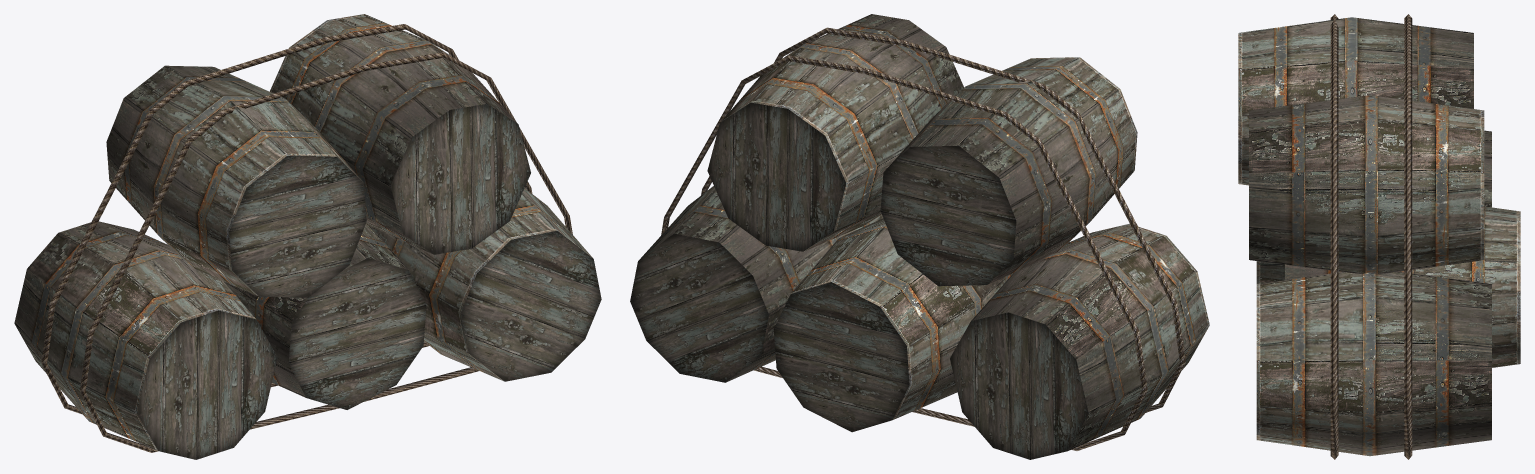
The model's file is Barrel3_LOD1.fbx.
The picture shows the model from 3 angles, left to right: view 1: azimuth 30°, elevation 25°; view 2: azimuth 150°, elevation 25°; view 3: azimuth 270°, elevation 25°; orthographic projection. The views are drawn at different scales.
Visible parts, largest first — view 1: polySurface1000; view 2: polySurface1000; view 3: polySurface1000.
Part boxes in pixels (left/top/right/bottom): polySurface1000: left=14, top=14, right=601, bottom=459; polySurface1000: left=630, top=14, right=1209, bottom=459; polySurface1000: left=1238, top=14, right=1520, bottom=459.
Size of the model in its own units: 3.04 by 1.96 by 1.55.
